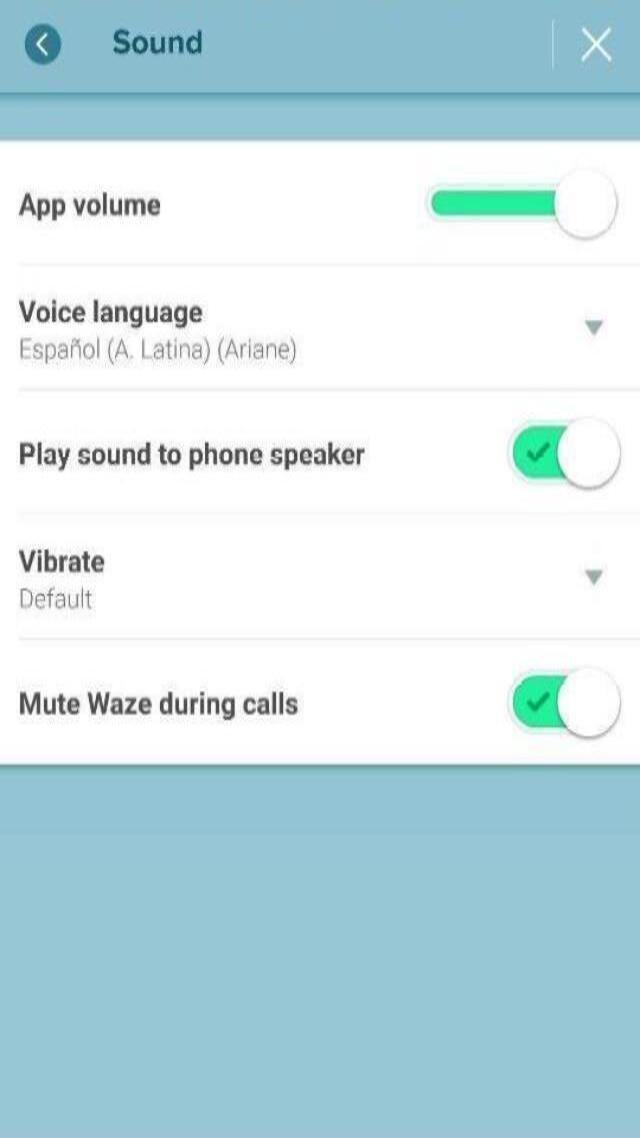CheckedTextView: (428, 164, 624, 242), (494, 660, 628, 740), (504, 411, 631, 494), (575, 15, 622, 75)
Icon: (574, 305, 618, 352), (574, 555, 612, 600), (26, 22, 60, 69), (582, 312, 610, 344)
Text: (9, 430, 374, 481), (13, 680, 304, 729), (12, 336, 307, 370), (12, 292, 210, 334), (12, 183, 172, 232), (103, 16, 212, 68), (15, 581, 113, 615), (13, 544, 110, 578)
